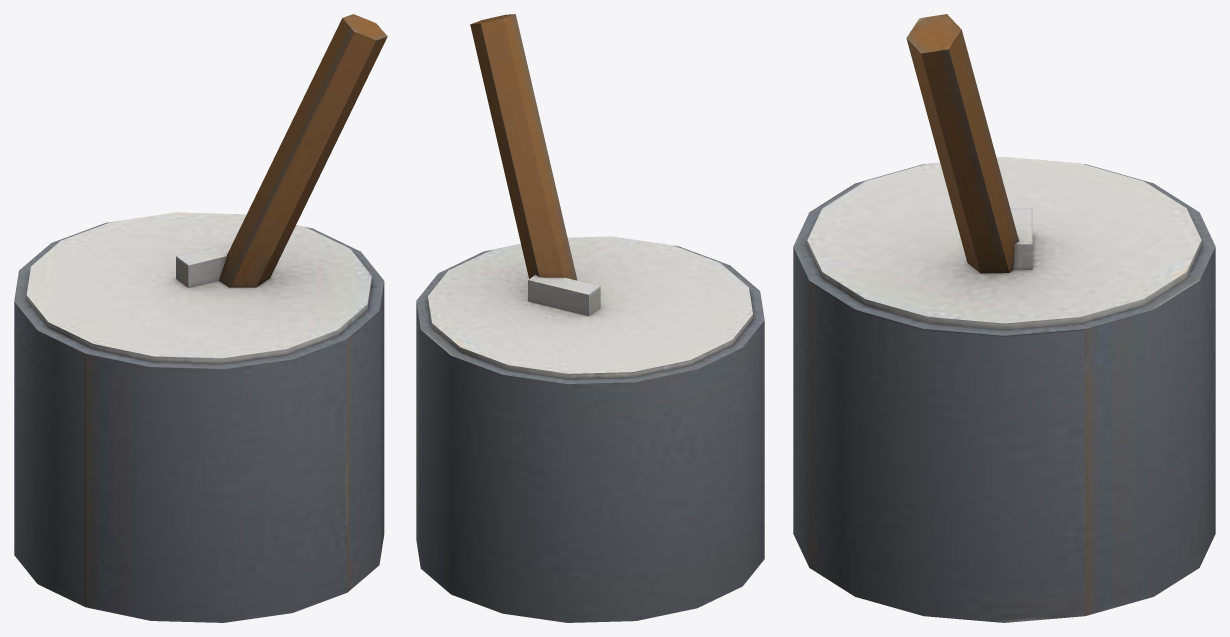
The model's file is cubo_pintura.glb.
The picture shows the model from 3 angles, left to right: view 1: azimuth 30°, elevation 25°; view 2: azimuth 150°, elevation 25°; view 3: azimuth 270°, elevation 25°; orthographic projection. The views are drawn at different scales.
Visible parts, largest first — view 1: cubo_pintura; view 2: cubo_pintura; view 3: cubo_pintura.
Boxes of the visible parts, <box> form: cubo_pintura: <box>14,14,387,622</box>; cubo_pintura: <box>416,14,764,622</box>; cubo_pintura: <box>793,14,1215,622</box>.
Size of the model in its own units: 0.6 by 0.9163 by 0.6.
Materials: 1 (1 with a texture image).
